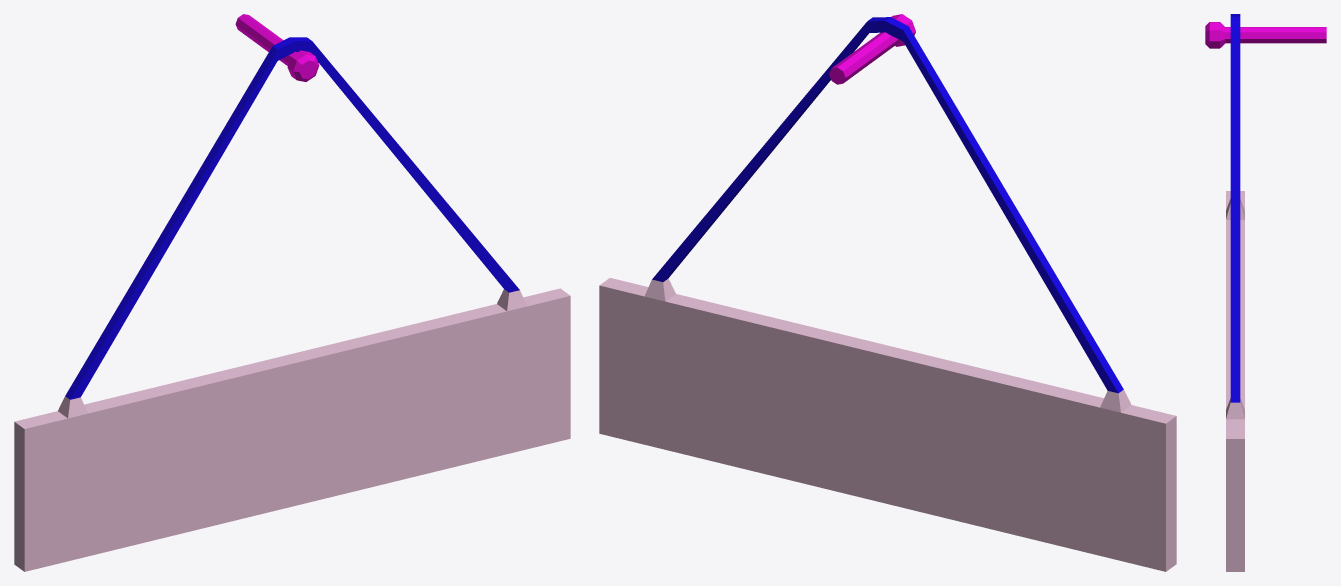
The model's file is insegna_FrigoESurgelati.fbx.
3 views of the same model, side by side, from view 1: azimuth 30°, elevation 25°; view 2: azimuth 150°, elevation 25°; view 3: azimuth 270°, elevation 25° (orthographic). The views are drawn at different scales.
Parts seen in each view (by area): view 1: FrigoESrugelati; view 2: FrigoESrugelati; view 3: FrigoESrugelati.
Part boxes in pixels (<box>): FrigoESrugelati: <box>14,14,570,571</box>; FrigoESrugelati: <box>599,14,1176,571</box>; FrigoESrugelati: <box>1205,14,1326,571</box>.
Bounding box in the file's own units: 600 × 486 × 124.
